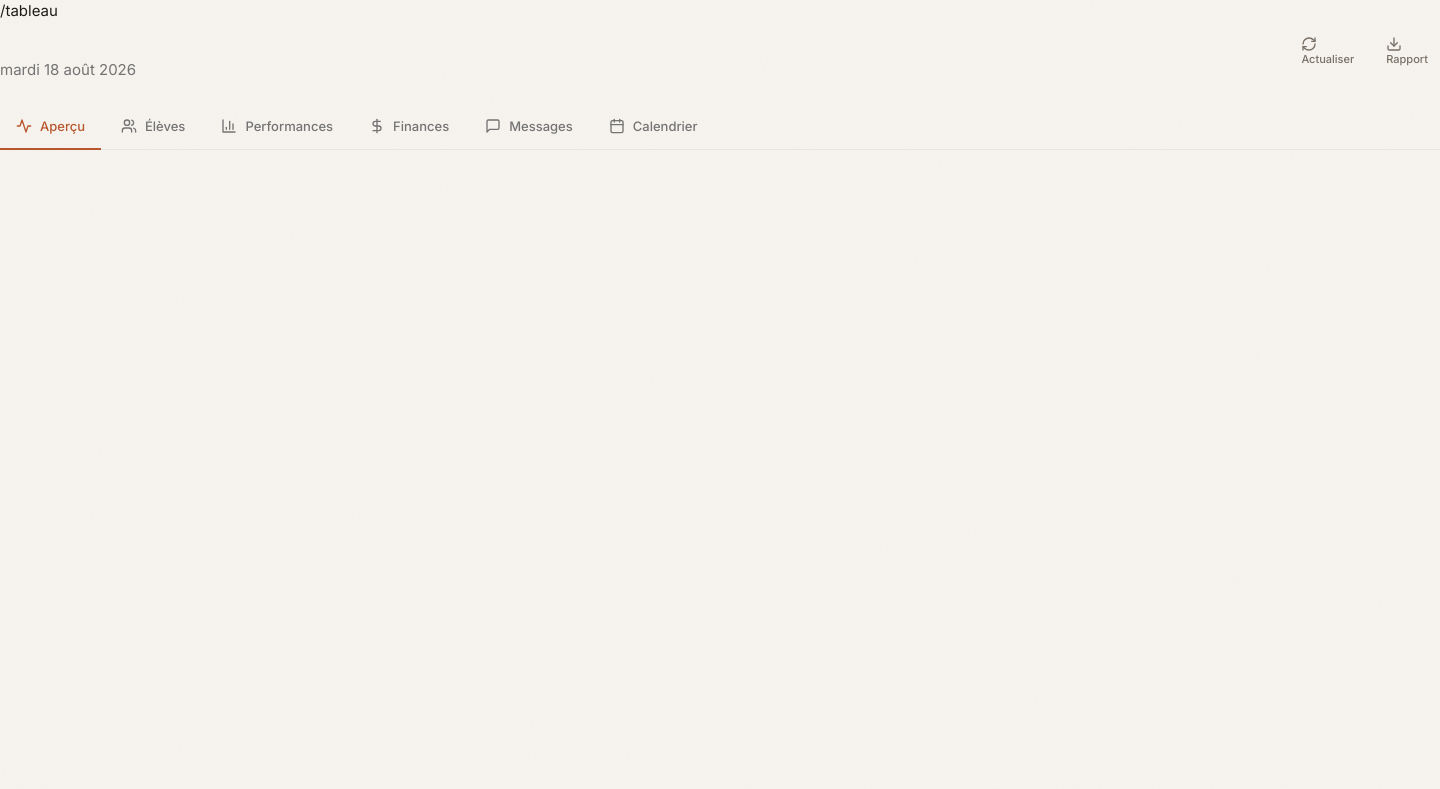
Test: DirecteurDashboard › relance l’appel au clic sur Actualiser, en ignorant le cache
Click the button "Actualiser": (1328, 52) left=1289, top=36, right=1366, bottom=68
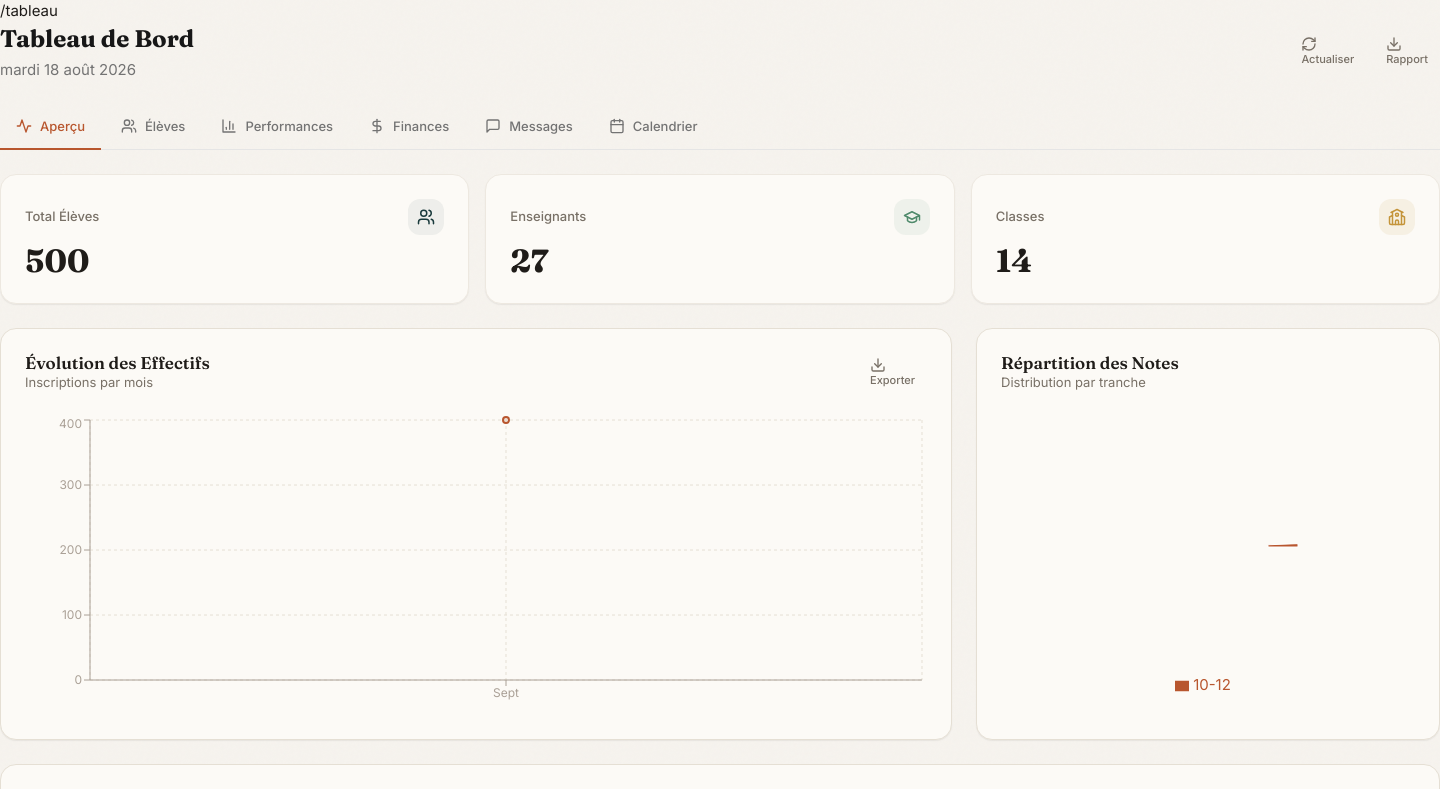
Now the text "500" is shown, box left=25, top=243, right=89, bottom=279
